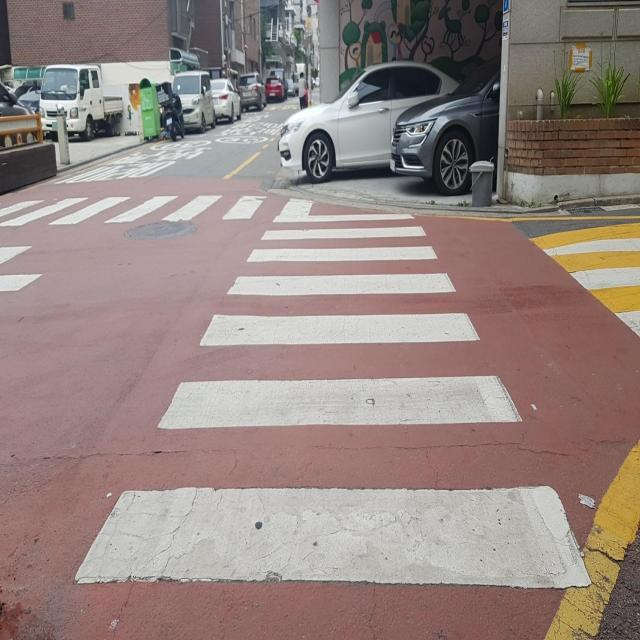횡단보도: (75, 207, 591, 592), (0, 194, 326, 226)
